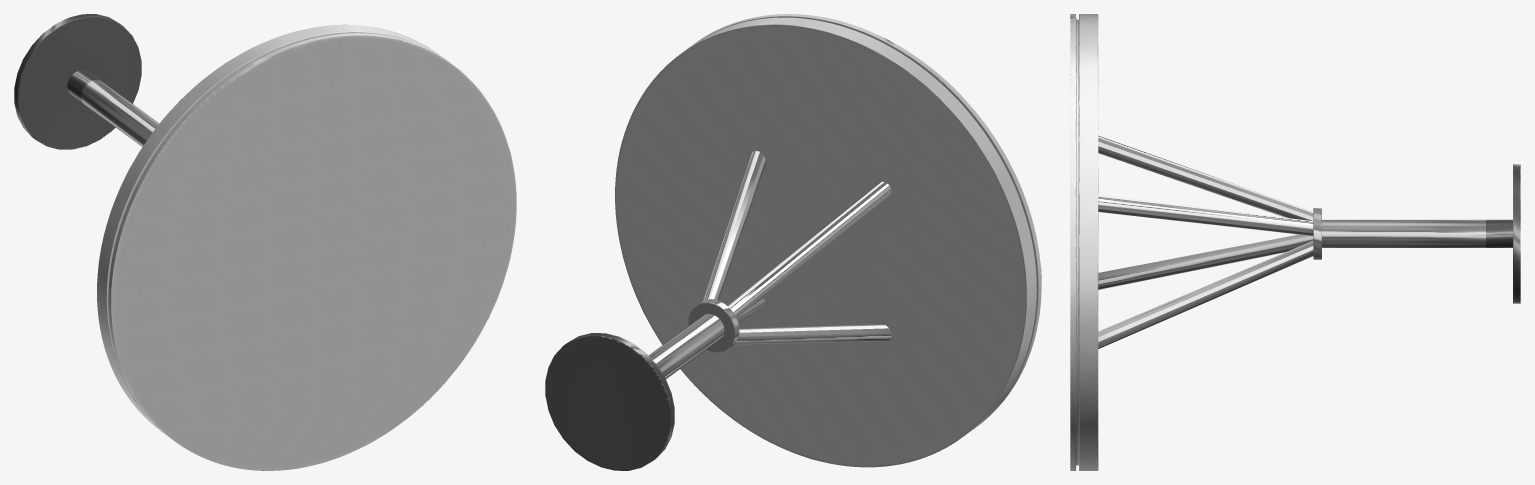
3 renders of one model, left to right at view 1: azimuth 30°, elevation 25°; view 2: azimuth 150°, elevation 25°; view 3: azimuth 270°, elevation 25°, orthographic. The views are drawn at different scales.
Size of the model in its own units: 0.6823 by 0.6823 by 0.6729.
